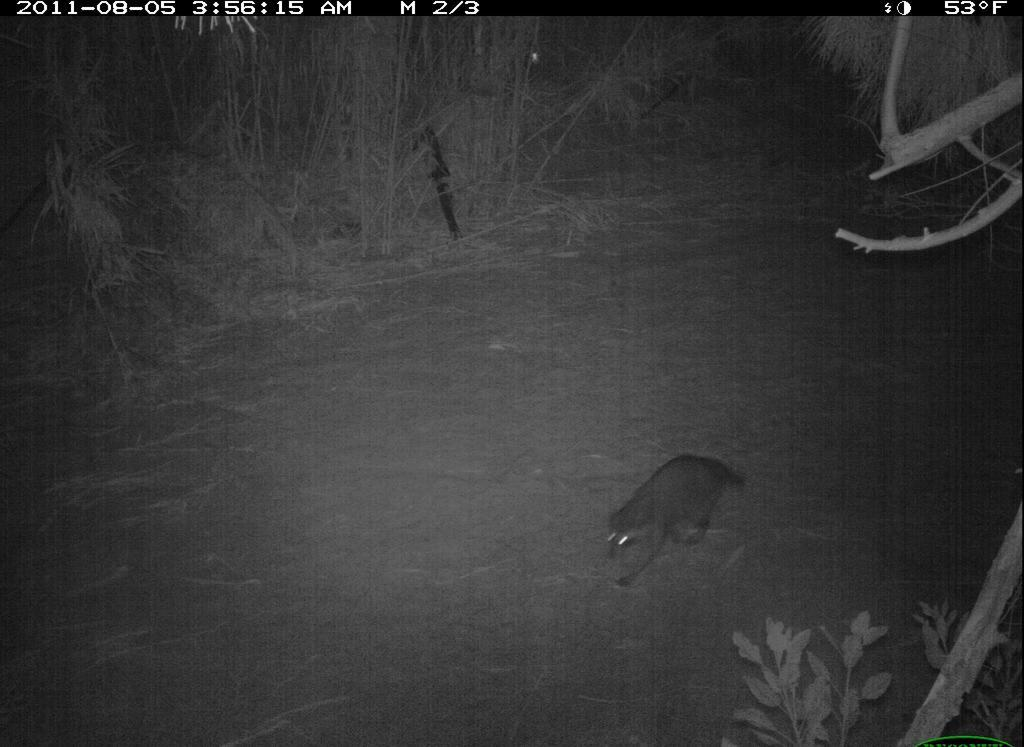raccoon: (589, 441, 753, 586)
